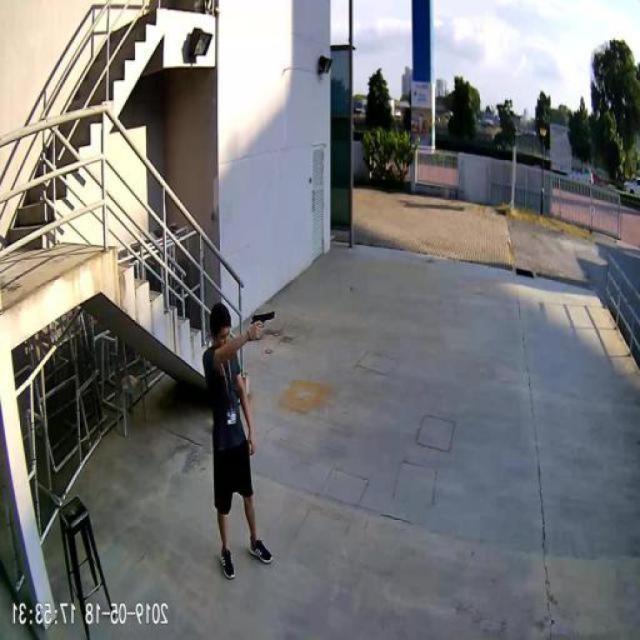pistol: (252, 308, 276, 328)
